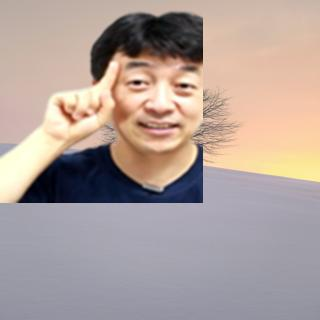IRRITATED: (35, 58, 122, 149)
